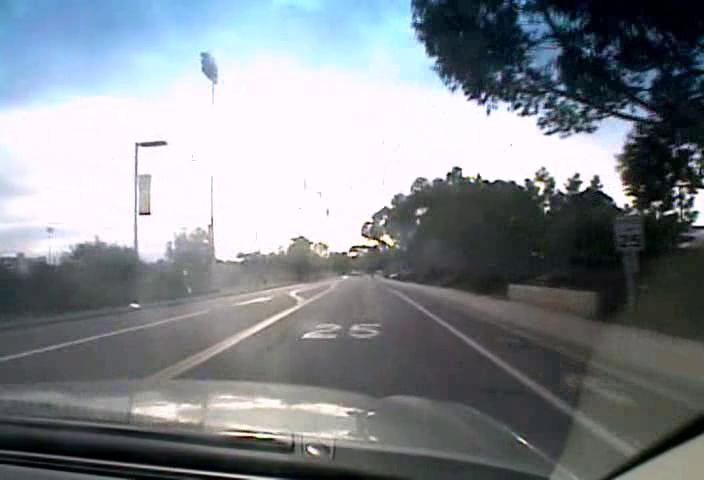speedLimit25: (612, 213, 644, 251)
